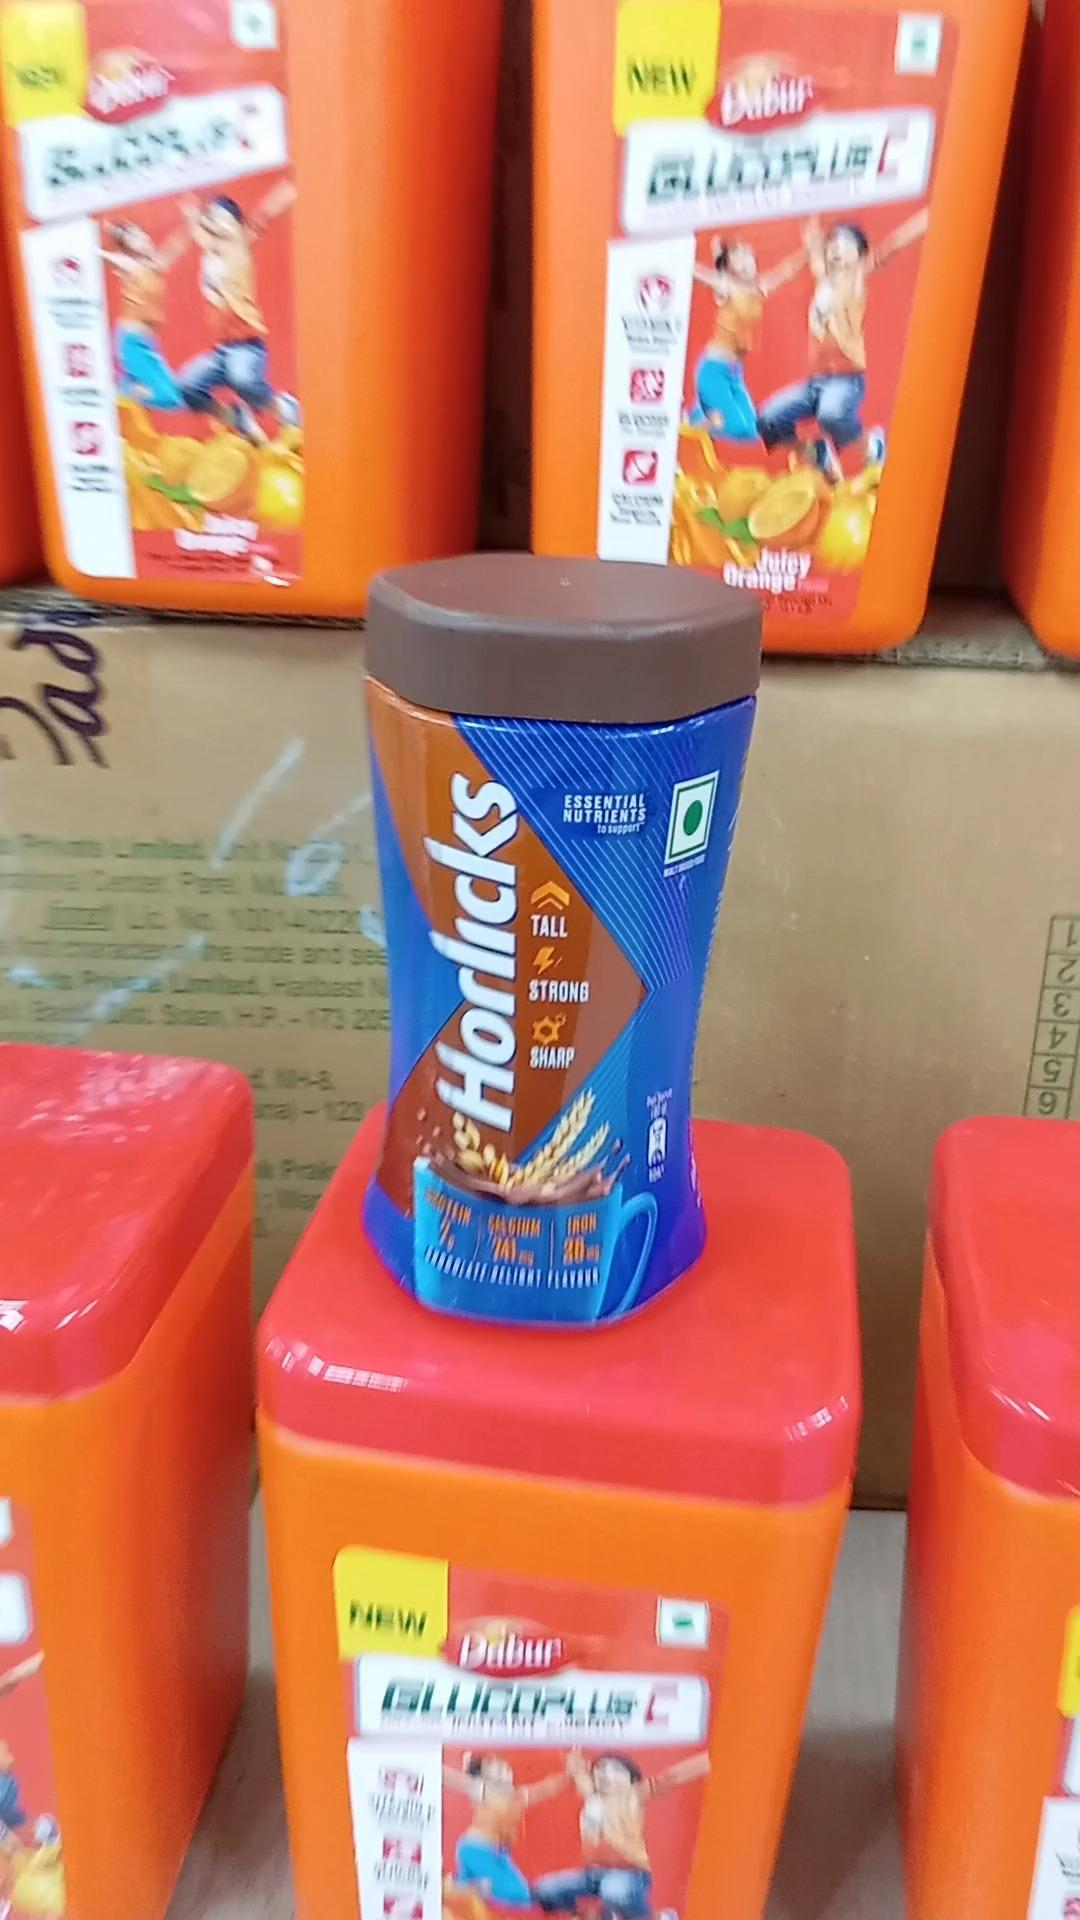HORLICK_CHOCOLATE_200_G_JAR: (352, 531, 732, 1325)
